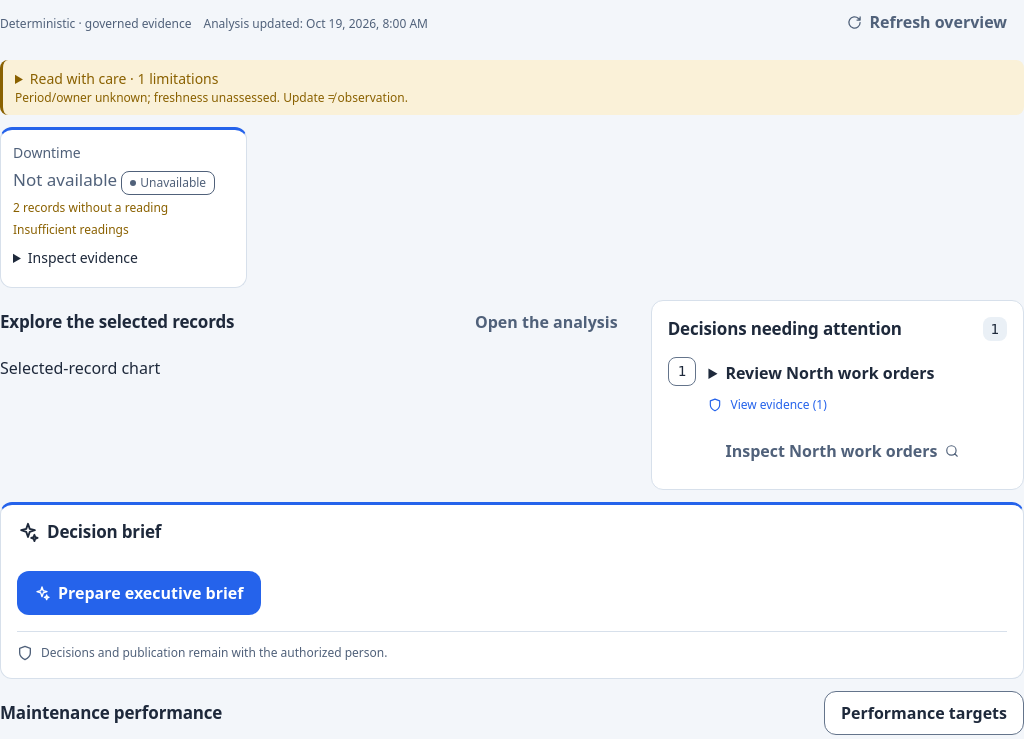
executive decision overview › aborts a changed scope and ignores a late response rather than replacing current figures
Click the button "Prepare executive brief" at (139, 593), box x1=17 y1=571 x2=260 y2=615
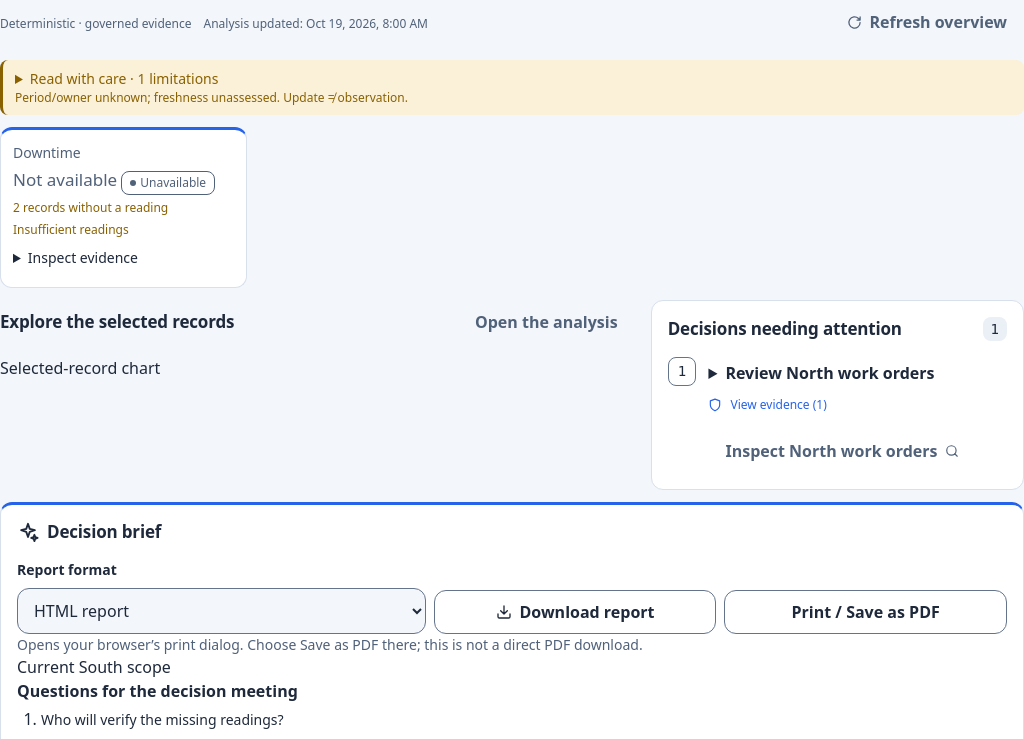
Result: the text "Current South scope" is shown at x1=17 y1=656 x2=171 y2=678
